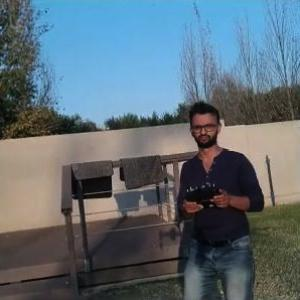follow: (175, 98, 269, 299)
